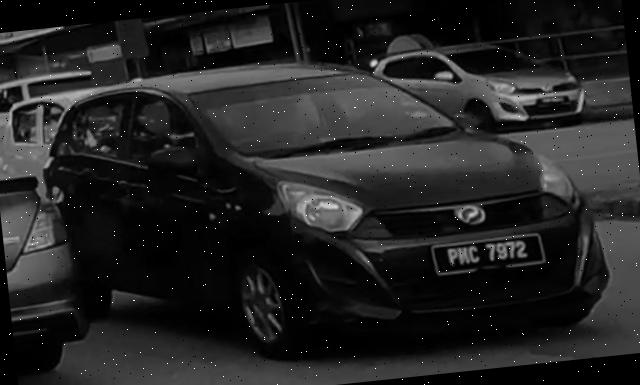License_Plate: (431, 231, 549, 279)
car: (33, 28, 617, 381)
